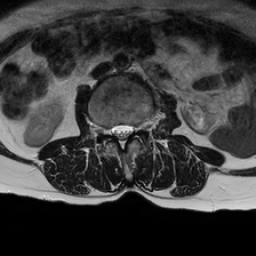CCS_normal: (117, 117, 125, 155)
LFS_normal: (133, 115, 142, 142)
LLS_normal: (125, 115, 133, 142)
RFS_stenosis: (102, 116, 109, 142)
RLS_normal: (109, 116, 117, 145)
